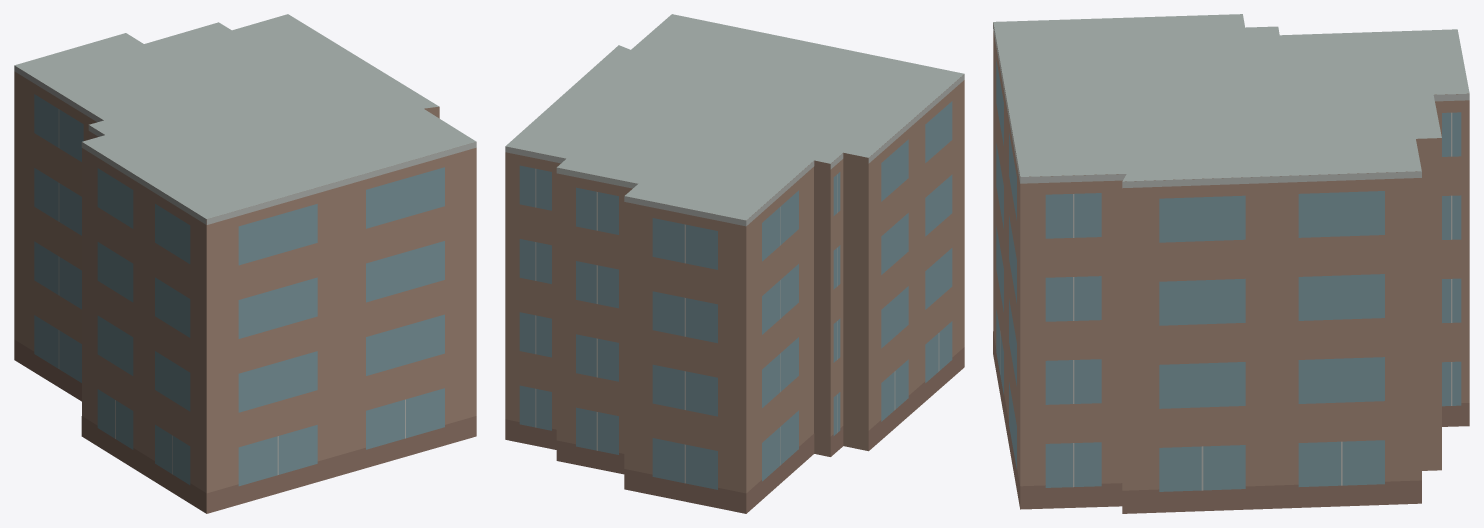
Rendered from residential-621ebd3c-6704-4f2c-a84f-6d2f2f0a6259.glb.
The picture shows the model from 3 angles, left to right: view 1: azimuth 30°, elevation 25°; view 2: azimuth 150°, elevation 25°; view 3: azimuth 270°, elevation 25°; orthographic projection. The views are drawn at different scales.
Visible parts, largest first — view 1: residential-621ebd3c-6704-4f2c-a84f-6d2f2f0a6259.tmp; view 2: residential-621ebd3c-6704-4f2c-a84f-6d2f2f0a6259.tmp; view 3: residential-621ebd3c-6704-4f2c-a84f-6d2f2f0a6259.tmp.
Boxes of the visible parts, x1,y1,x2,y2 form: residential-621ebd3c-6704-4f2c-a84f-6d2f2f0a6259.tmp: (14,14,476,513); residential-621ebd3c-6704-4f2c-a84f-6d2f2f0a6259.tmp: (505,14,964,513); residential-621ebd3c-6704-4f2c-a84f-6d2f2f0a6259.tmp: (993,14,1469,513).
Bounding box in the file's own units: 13.2 × 12.2 × 15.86.
